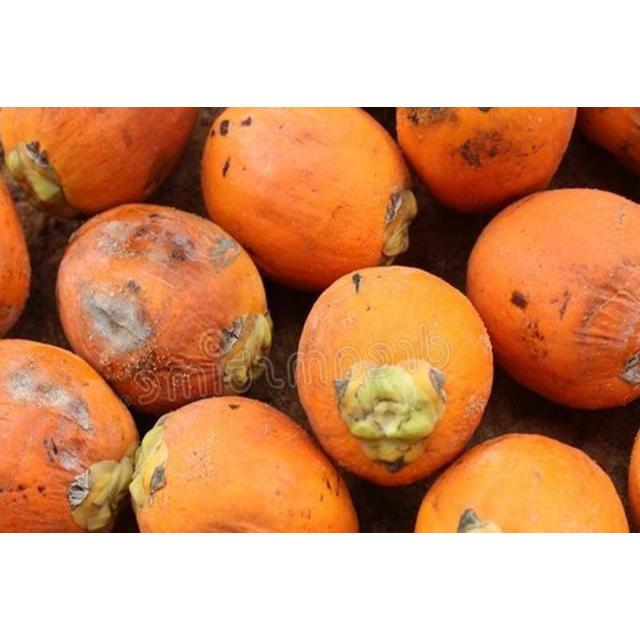good: (54, 206, 266, 414), (294, 265, 490, 483), (202, 109, 412, 291), (469, 191, 636, 405), (126, 396, 358, 532), (3, 342, 136, 530), (4, 109, 196, 215), (416, 436, 630, 530), (398, 108, 576, 212), (556, 107, 578, 127)
